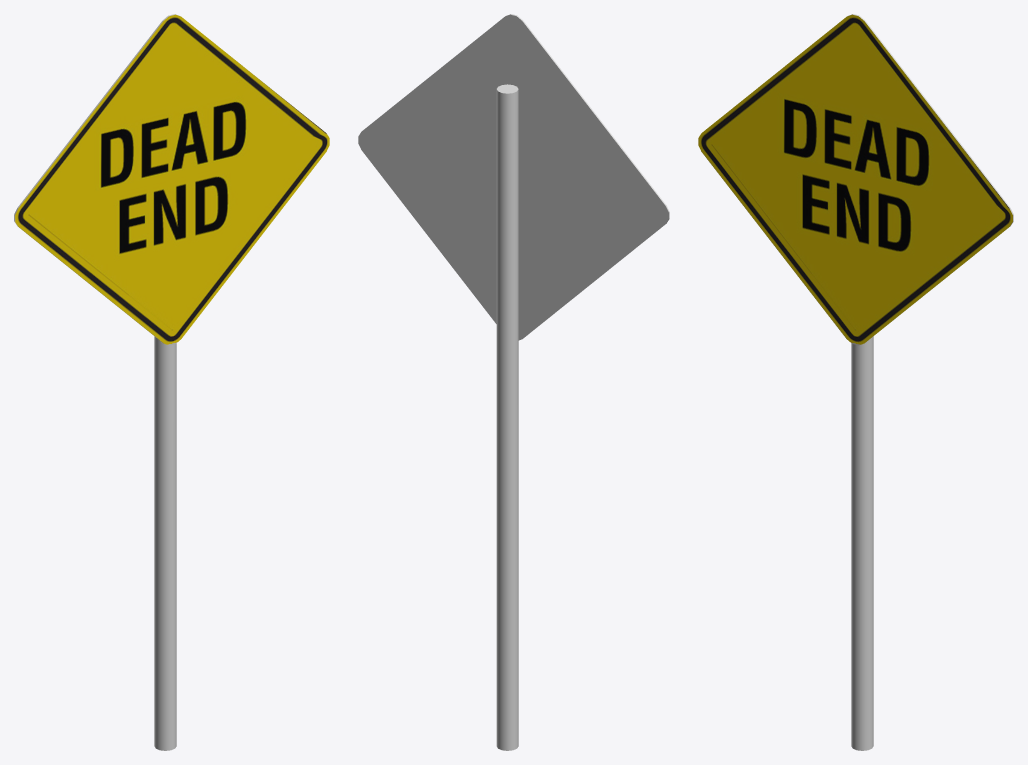
File: Dead End Sign.fbx
3 views of the same model, side by side, from view 1: azimuth 30°, elevation 25°; view 2: azimuth 150°, elevation 25°; view 3: azimuth 330°, elevation 25° (orthographic).
Visible parts, largest first — view 1: Sign, Pole; view 2: Sign, Pole; view 3: Sign, Pole.
Boxes of the visible parts, left/top/right/bottom form: Sign: left=14, top=14, right=329, bottom=345; Pole: left=154, top=336, right=176, bottom=750; Sign: left=358, top=14, right=669, bottom=340; Pole: left=496, top=84, right=518, bottom=750; Sign: left=698, top=14, right=1013, bottom=345; Pole: left=851, top=336, right=873, bottom=750.
Size of the model in its own units: 0.9799 by 2.19 by 0.0674.
